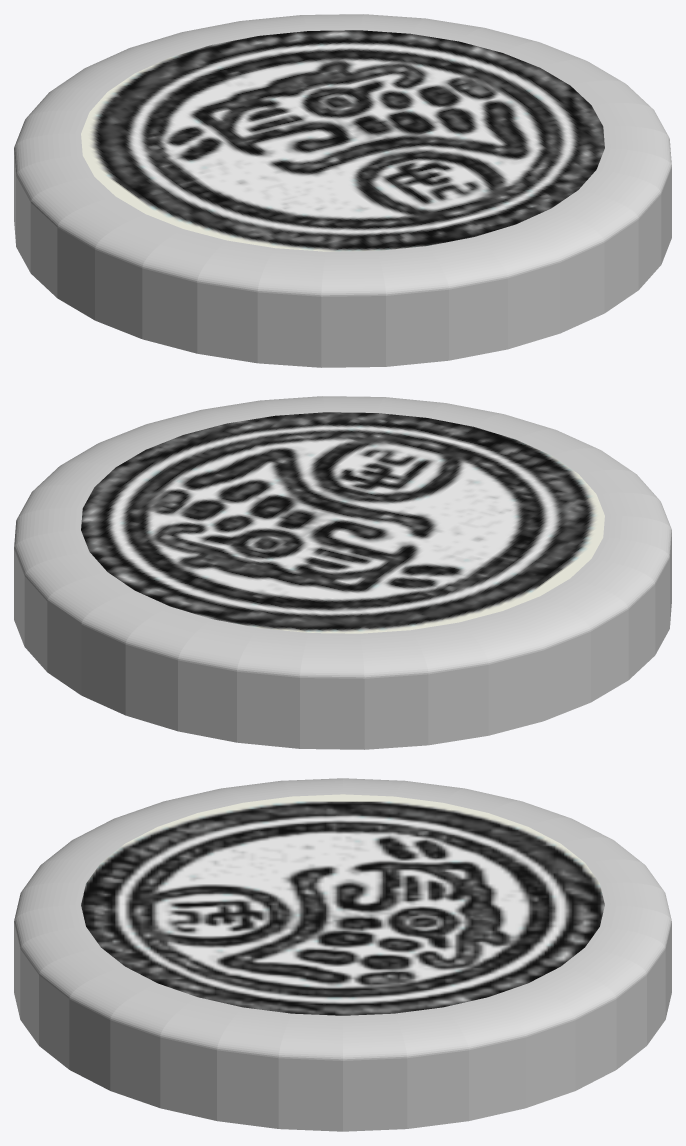
Rendered from Black Tiger.fbx.
3 views of the same model, one above another, from view 1: azimuth 30°, elevation 25°; view 2: azimuth 150°, elevation 25°; view 3: azimuth 270°, elevation 25° (orthographic).
Parts seen in each view (by area): view 1: Cylinder.005; view 2: Cylinder.005; view 3: Cylinder.005.
Part boxes in pixels (<box>): Cylinder.005: <box>14,14,671,367</box>; Cylinder.005: <box>14,396,671,749</box>; Cylinder.005: <box>14,778,671,1131</box>.
Size of the model in its own units: 151 by 22.19 by 151.
Materials: 2 (1 with a texture image).
